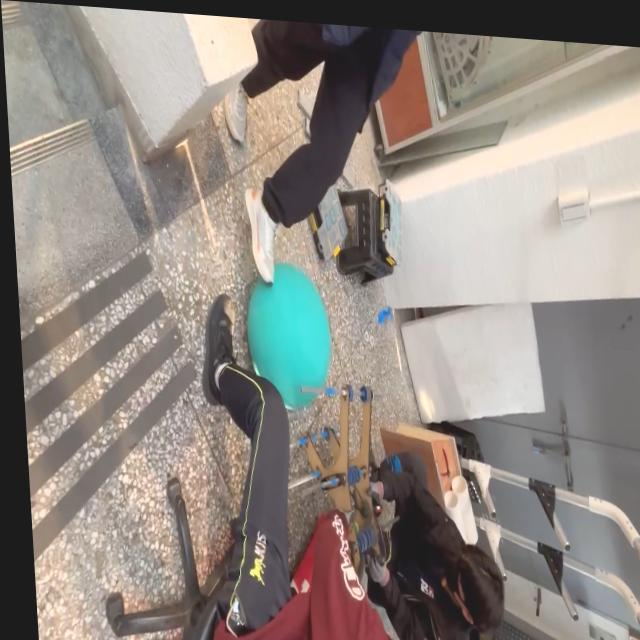ALGAE: (241, 257, 336, 415)
